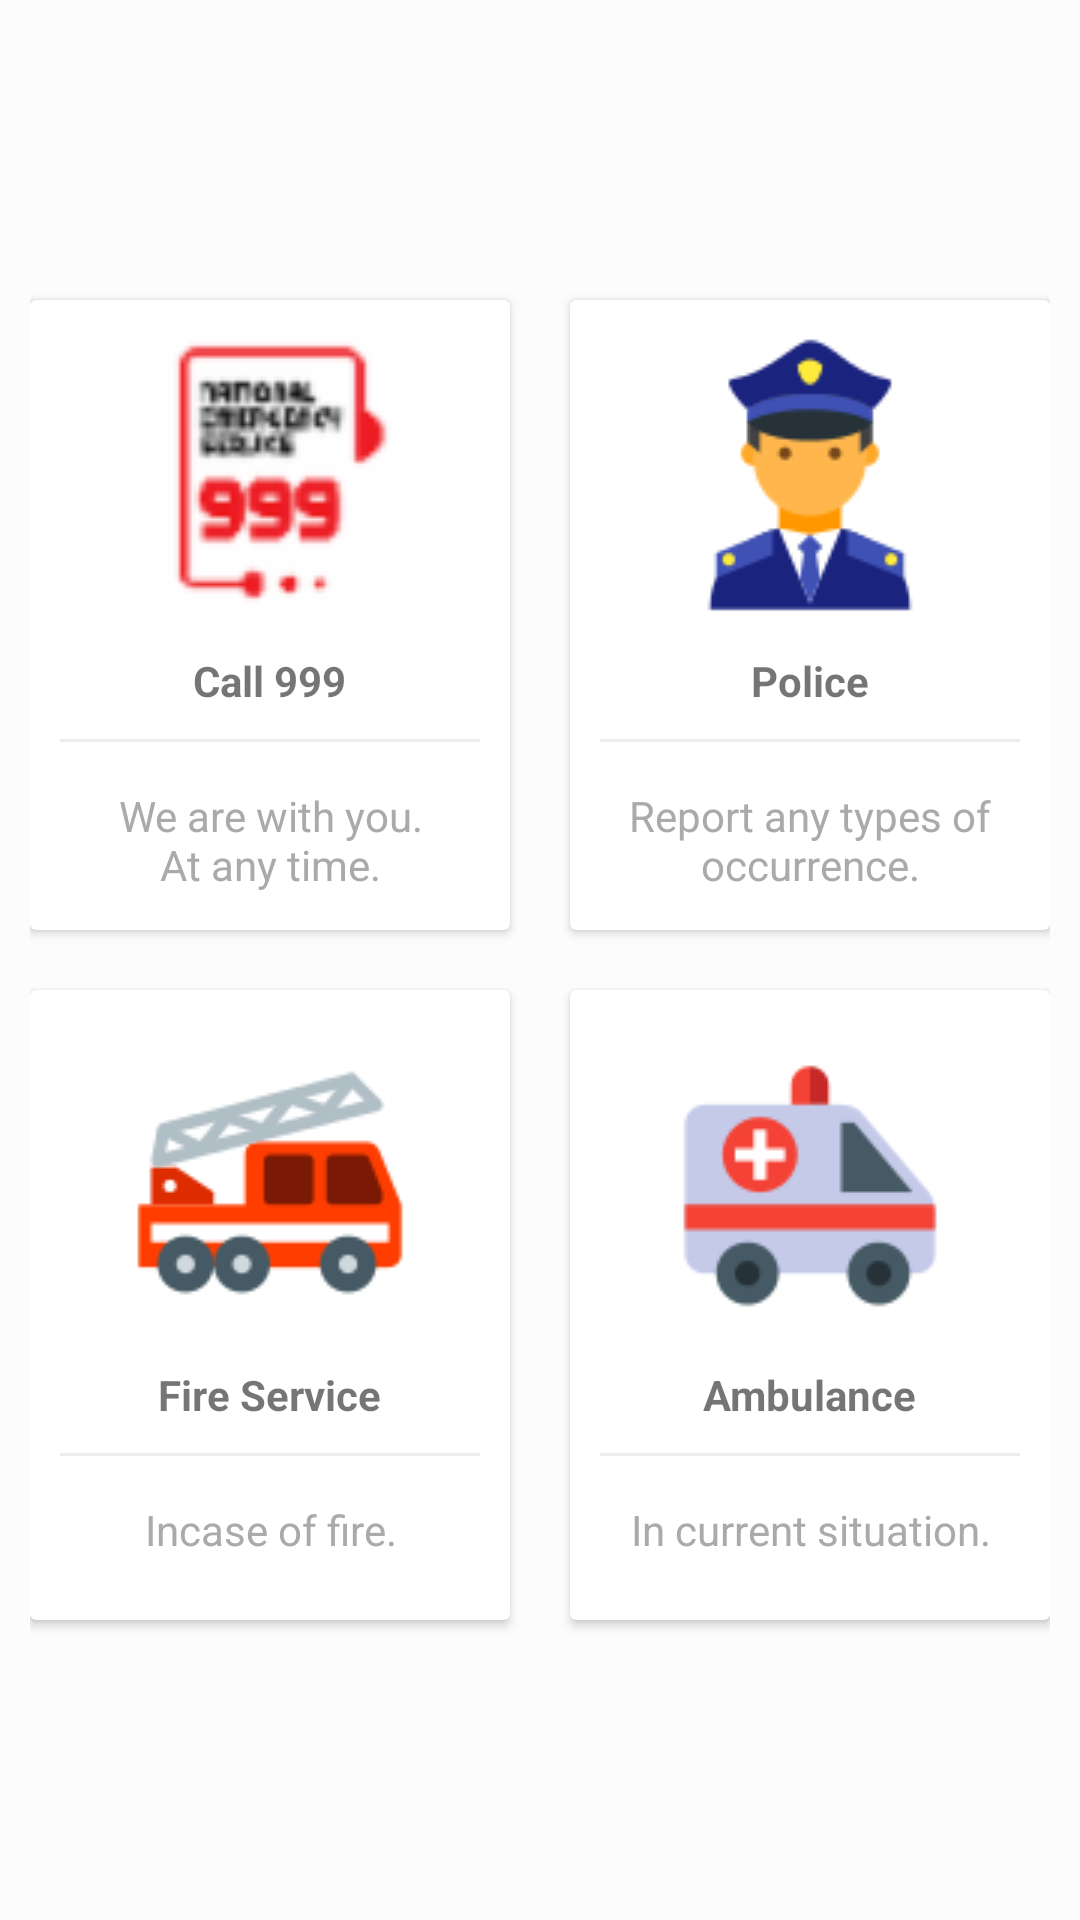

Icons on this 1080w x 1920h Android screen, each with the point to tap as point (x, y):
fire tuck: point (270, 1183)
